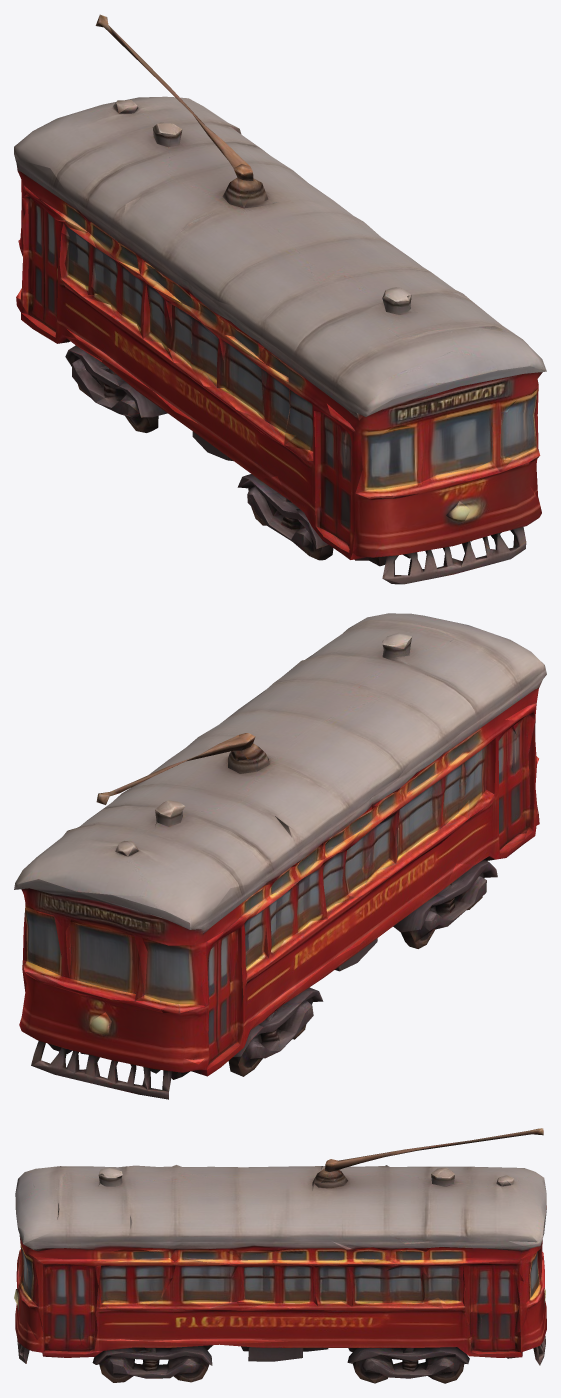
The model's file is 02-red-car.glb.
3 views of the same model, one above another, from view 1: azimuth 30°, elevation 25°; view 2: azimuth 150°, elevation 25°; view 3: azimuth 270°, elevation 25° (orthographic). The views are drawn at different scales.
Visible parts, largest first — view 1: SM_RedCar; view 2: SM_RedCar; view 3: SM_RedCar.
Boxes of the visible parts, x1,y1,x2,y2 form: SM_RedCar: [14, 14, 546, 584]; SM_RedCar: [14, 613, 546, 1099]; SM_RedCar: [14, 1128, 546, 1383].
Bounding box in the file's own units: 3.87 × 6.11 × 13.
1 material, 1 textured.
